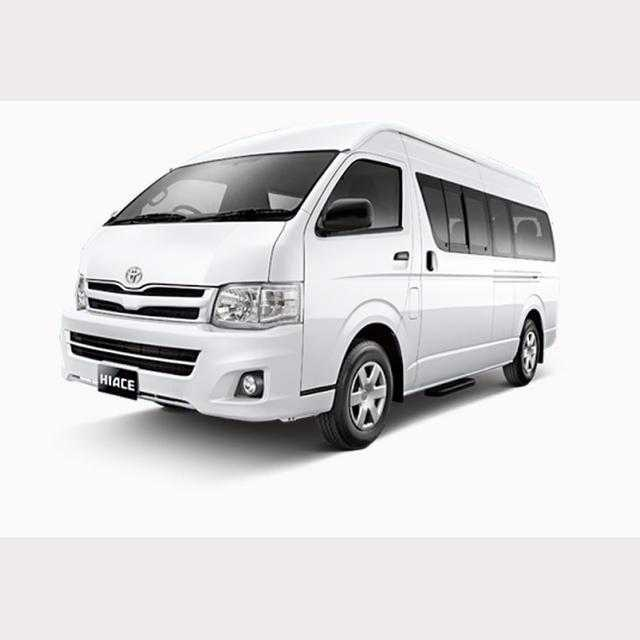van: (58, 120, 555, 451)
